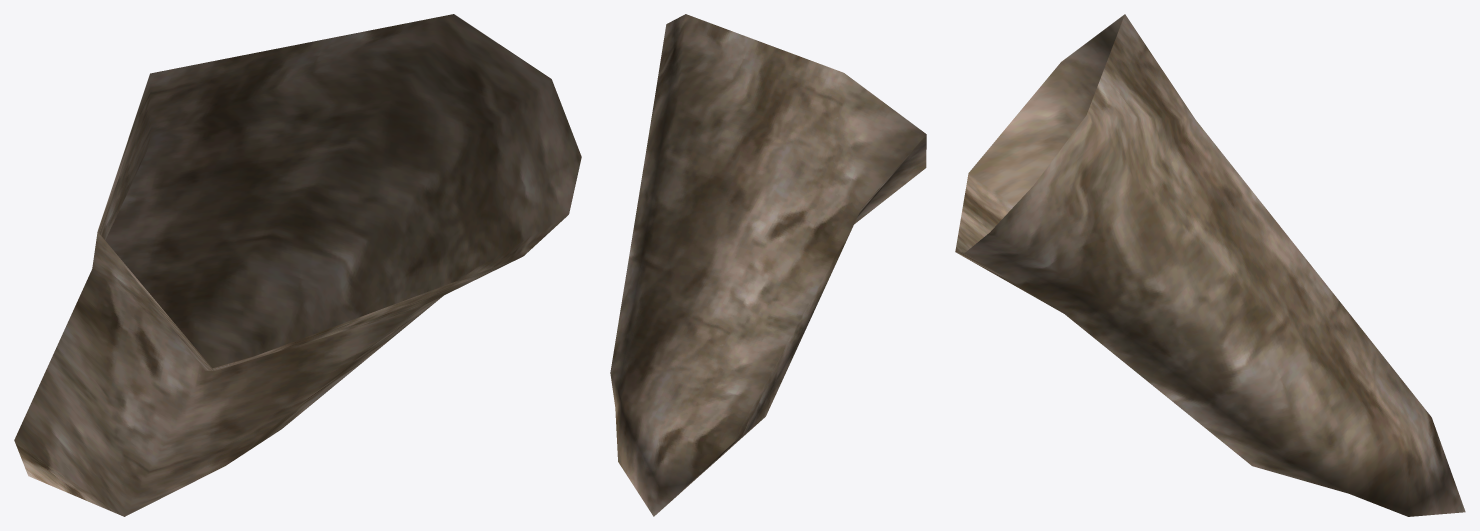
File: OVERHILL_A_01_ROCK02.fbx
3 renders of one model, left to right at view 1: azimuth 30°, elevation 25°; view 2: azimuth 150°, elevation 25°; view 3: azimuth 270°, elevation 25°, orthographic. The views are drawn at different scales.
Visible parts, largest first — view 1: OVERHILL_A_01_ROCK02; view 2: OVERHILL_A_01_ROCK02; view 3: OVERHILL_A_01_ROCK02.
Part boxes in pixels (<box>): OVERHILL_A_01_ROCK02: <box>14,14,581,516</box>; OVERHILL_A_01_ROCK02: <box>610,14,926,516</box>; OVERHILL_A_01_ROCK02: <box>955,14,1465,516</box>.
Bounding box in the file's own units: 30033 × 38608 × 38041.
Materials: 1 (1 with a texture image).
